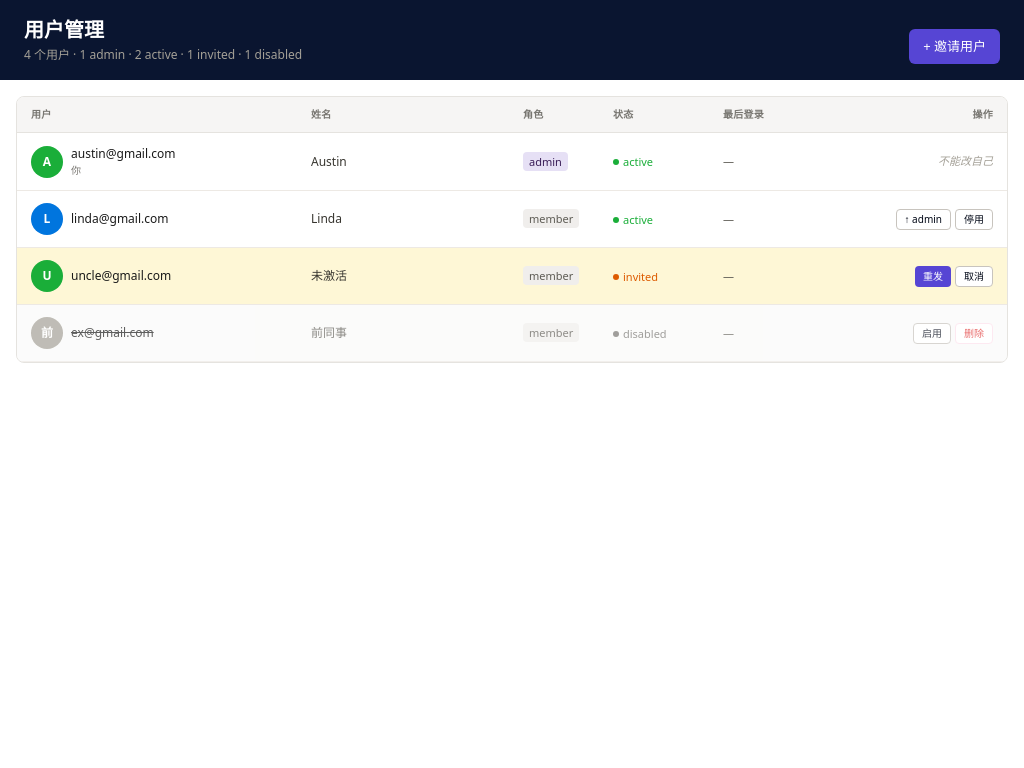
Test: AdminUsersView — desktop › disabled user 删除 button opens DeleteUserModal
Click the button "删除". click: x=974, y=333
box: [955, 322, 993, 344]
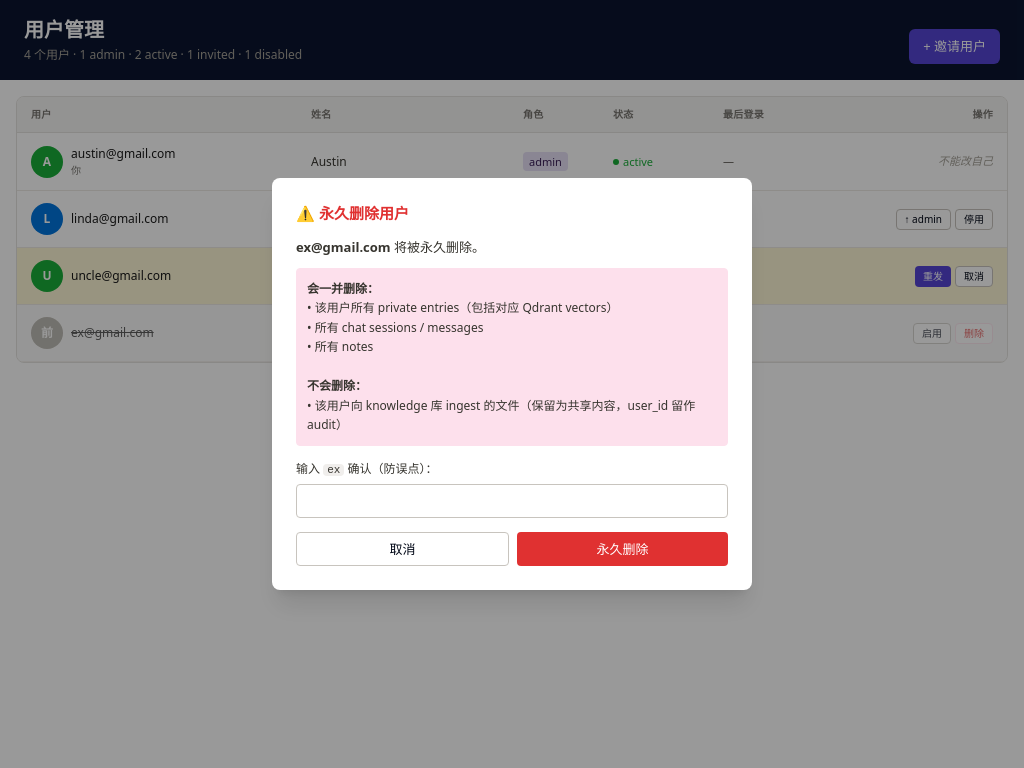
Result: the text "永久删除用户" is shown at [296, 203, 409, 223]
